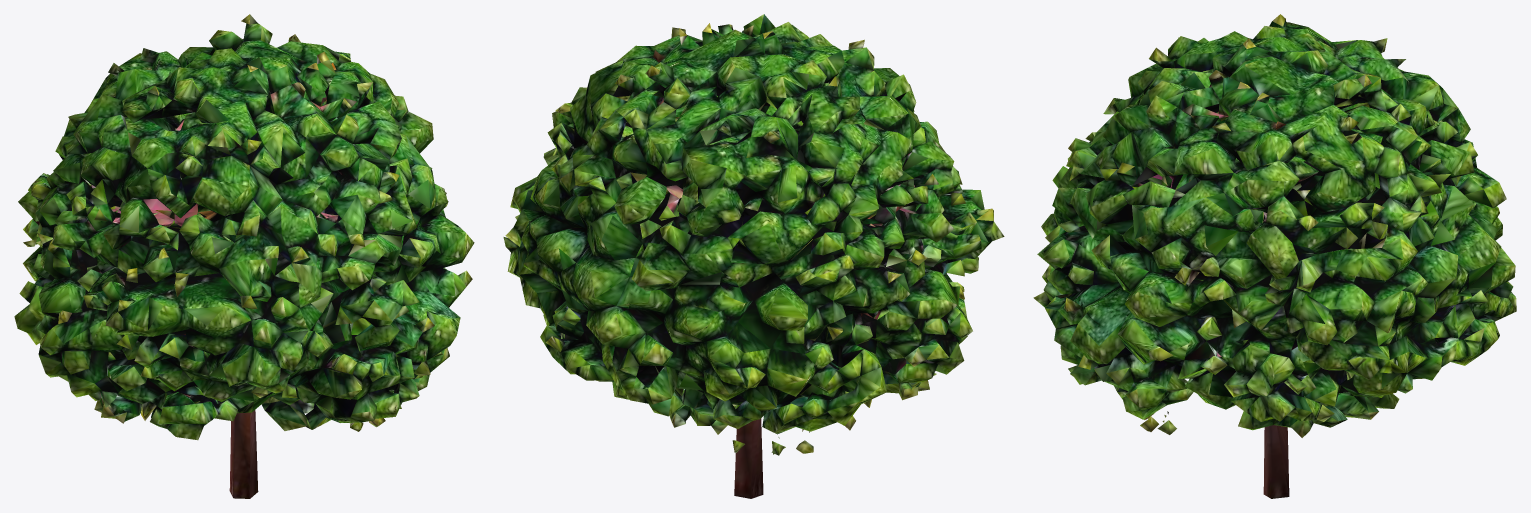
The model's file is tree.glb.
3 renders of one model, left to right at view 1: azimuth 30°, elevation 25°; view 2: azimuth 150°, elevation 25°; view 3: azimuth 270°, elevation 25°, orthographic. The views are drawn at different scales.
Parts seen in each view (by area): view 1: tree; view 2: tree; view 3: tree.
Part boxes in pixels (x1,y1,x2,y2): tree: (14, 14, 474, 498); tree: (503, 14, 1004, 498); tree: (1033, 14, 1516, 498).
Bounding box in the file's own units: 0.9862 × 1 × 0.9711.
1 material, 1 textured.
